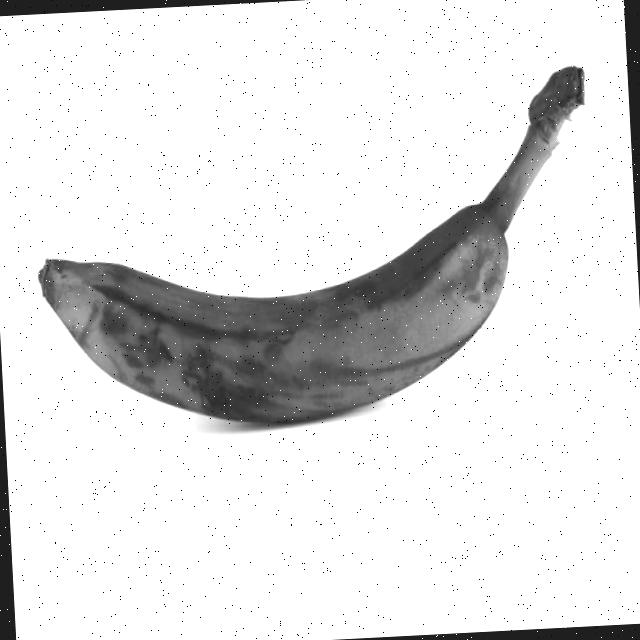overripe: (29, 127, 578, 444)
